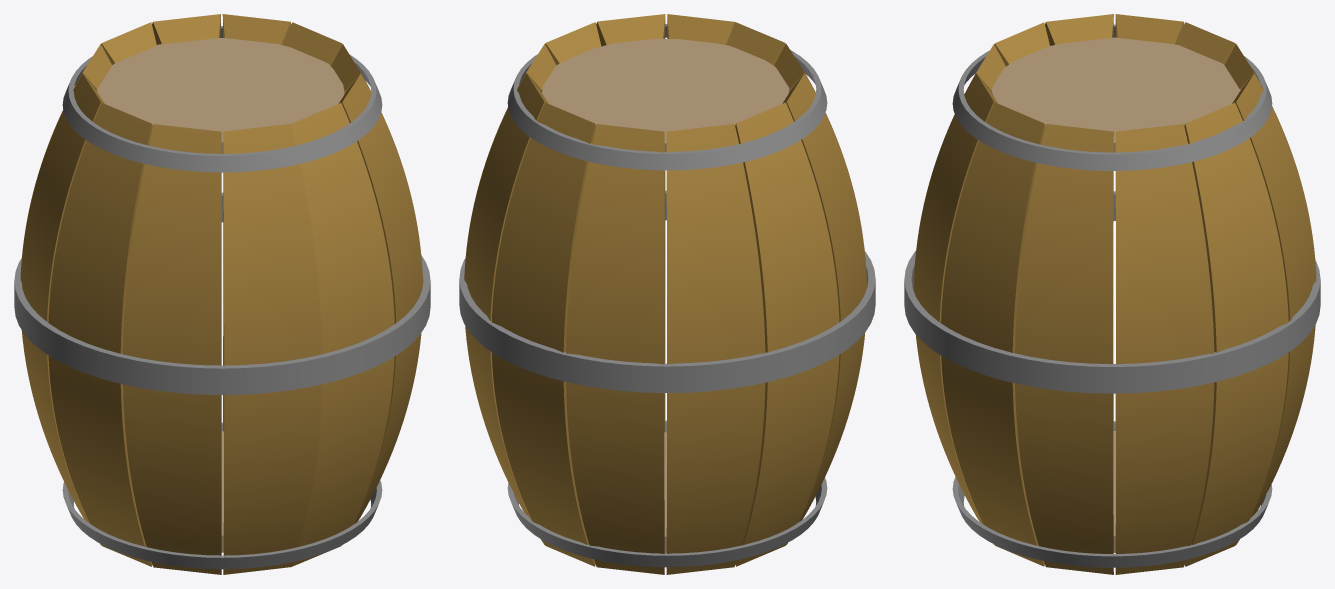
The model's file is barrel2.fbx.
3 views of the same model, side by side, from view 1: azimuth 30°, elevation 25°; view 2: azimuth 150°, elevation 25°; view 3: azimuth 270°, elevation 25° (orthographic).
Visible parts, largest first — view 1: pCube13, pCylinder1, pPipe1, pPipe3, pPipe2; view 2: pCube13, pCylinder1, pPipe1, pPipe3, pPipe2; view 3: pCube13, pCylinder1, pPipe1, pPipe3, pPipe2.
Part boxes in pixels (x1,y1,x2,y2): pCube13: (20, 14, 422, 574); pCylinder1: (97, 38, 344, 153); pPipe1: (14, 192, 430, 394); pPipe3: (62, 26, 382, 172); pPipe2: (62, 422, 382, 569); pCube13: (464, 14, 866, 574); pCylinder1: (542, 38, 789, 151); pPipe1: (459, 190, 875, 392); pPipe3: (507, 24, 827, 170); pPipe2: (507, 420, 827, 567); pCube13: (913, 14, 1316, 574); pCylinder1: (991, 37, 1240, 152); pPipe1: (904, 191, 1320, 393); pPipe3: (952, 24, 1272, 170); pPipe2: (952, 421, 1272, 567).
Bounding box in the file's own units: 8.09 × 9.51 × 8.09.
